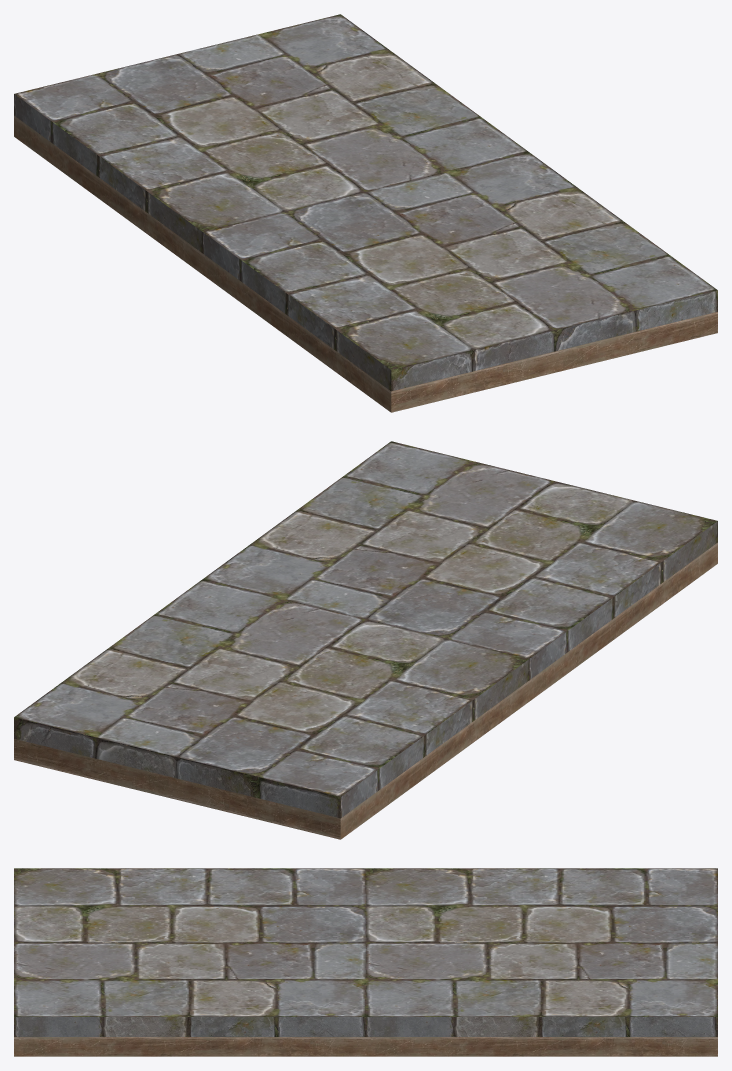
The picture shows the model from 3 angles, top to bottom: view 1: azimuth 30°, elevation 25°; view 2: azimuth 150°, elevation 25°; view 3: azimuth 270°, elevation 25°; orthographic projection. The views are drawn at different scales.
Parts seen in each view (by area): view 1: SM_Greathall_Floor_8x4_01_LOD0; view 2: SM_Greathall_Floor_8x4_01_LOD0; view 3: SM_Greathall_Floor_8x4_01_LOD0.
Boxes of the visible parts, box(x1,y1,x2,y2) form: SM_Greathall_Floor_8x4_01_LOD0: box(14, 14, 717, 412); SM_Greathall_Floor_8x4_01_LOD0: box(14, 441, 717, 839); SM_Greathall_Floor_8x4_01_LOD0: box(14, 868, 717, 1056).
Size of the model in its own units: 4 by 0.5 by 8.
Materials: 2 (2 with a texture image).
